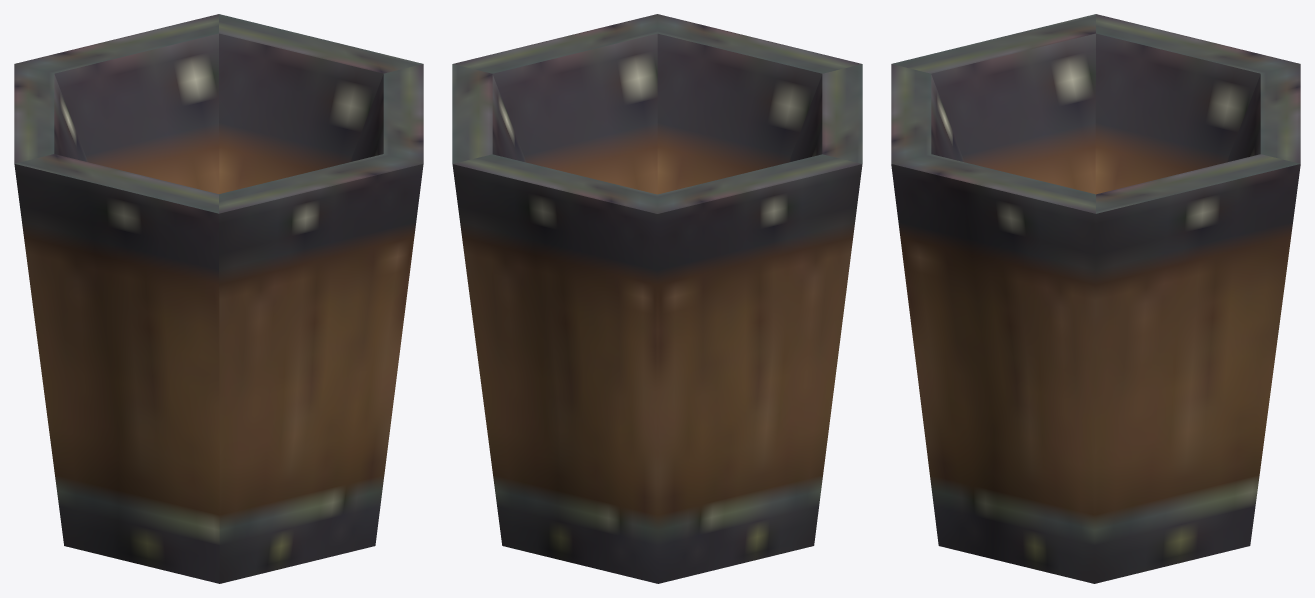
File: common_city_mutong03.FBX
3 renders of one model, left to right at view 1: azimuth 30°, elevation 25°; view 2: azimuth 150°, elevation 25°; view 3: azimuth 270°, elevation 25°, orthographic.
Visible parts, largest first — view 1: common_city_mutong03; view 2: common_city_mutong03; view 3: common_city_mutong03.
Part boxes in pixels (left/top/right/bottom): common_city_mutong03: left=14, top=14, right=423, bottom=583; common_city_mutong03: left=452, top=14, right=862, bottom=583; common_city_mutong03: left=891, top=14, right=1300, bottom=583.
Size of the model in its own units: 85.7 by 78.77 by 74.21.
